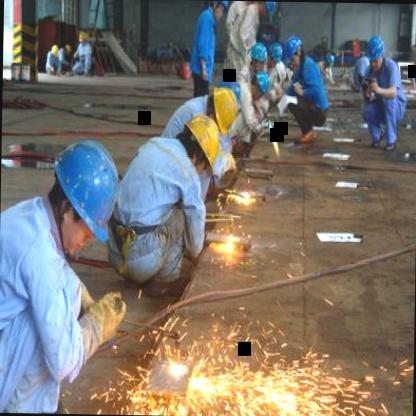helmet: (44, 132, 124, 258), (166, 106, 228, 185), (206, 82, 243, 138), (366, 28, 386, 74), (282, 35, 306, 73), (247, 40, 270, 74), (250, 68, 272, 102), (266, 39, 282, 67)
